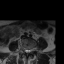CCS_normal: (26, 47, 28, 55)
LFS_normal: (30, 46, 32, 53)
LLS_normal: (28, 48, 30, 54)
RFS_normal: (22, 46, 24, 53)
RLS_normal: (24, 48, 26, 54)
